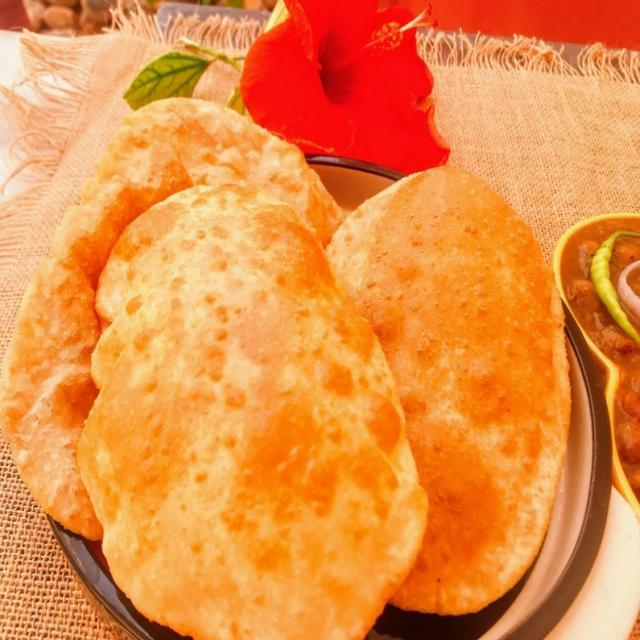Bhatura: (0, 94, 572, 640)
